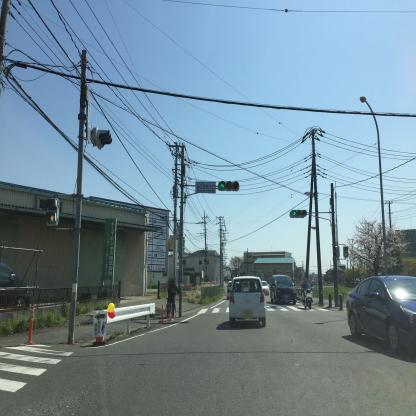Someiyoshino: (339, 210, 411, 294)
